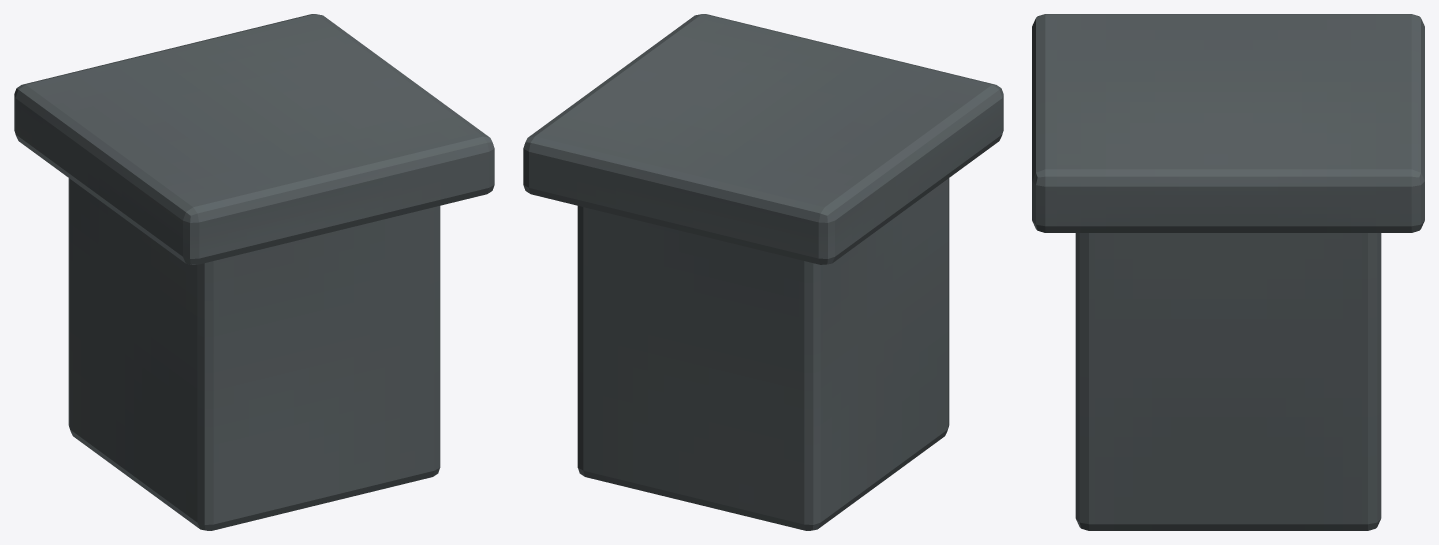
The model's file is Pedestal.glb.
3 views of the same model, side by side, from view 1: azimuth 30°, elevation 25°; view 2: azimuth 150°, elevation 25°; view 3: azimuth 270°, elevation 25° (orthographic). The views are drawn at different scales.
Visible parts, largest first — view 1: Stone Pedestal, Pedestal Cap; view 2: Stone Pedestal, Pedestal Cap; view 3: Stone Pedestal, Pedestal Cap.
Part boxes in pixels (x1=…): Stone Pedestal: x1=68, y1=178, x2=440, y2=530; Pedestal Cap: x1=14, y1=14, x2=494, y2=264; Stone Pedestal: x1=577, y1=178, x2=949, y2=530; Pedestal Cap: x1=523, y1=14, x2=1003, y2=264; Stone Pedestal: x1=1075, y1=233, x2=1381, y2=530; Pedestal Cap: x1=1032, y1=14, x2=1424, y2=232.
Bounding box in the file's own units: 0.9 × 0.96 × 0.9.
Materials: 1 (1 with a texture image).
